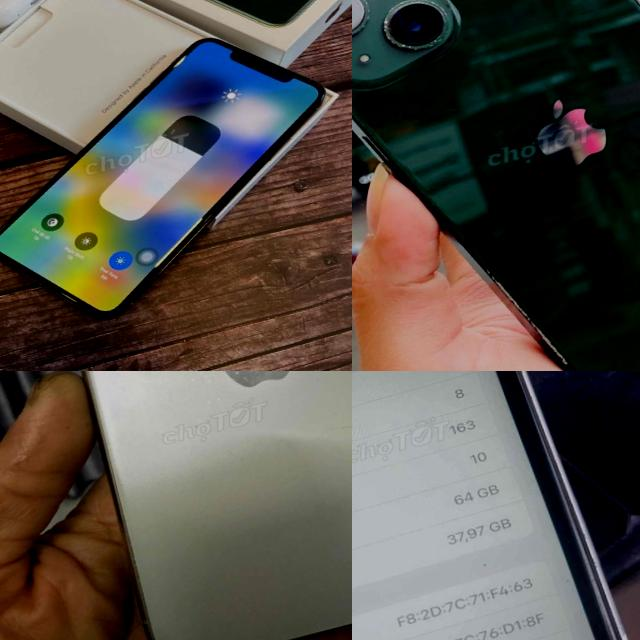scratch: (129, 371, 352, 431), (110, 534, 166, 632)
